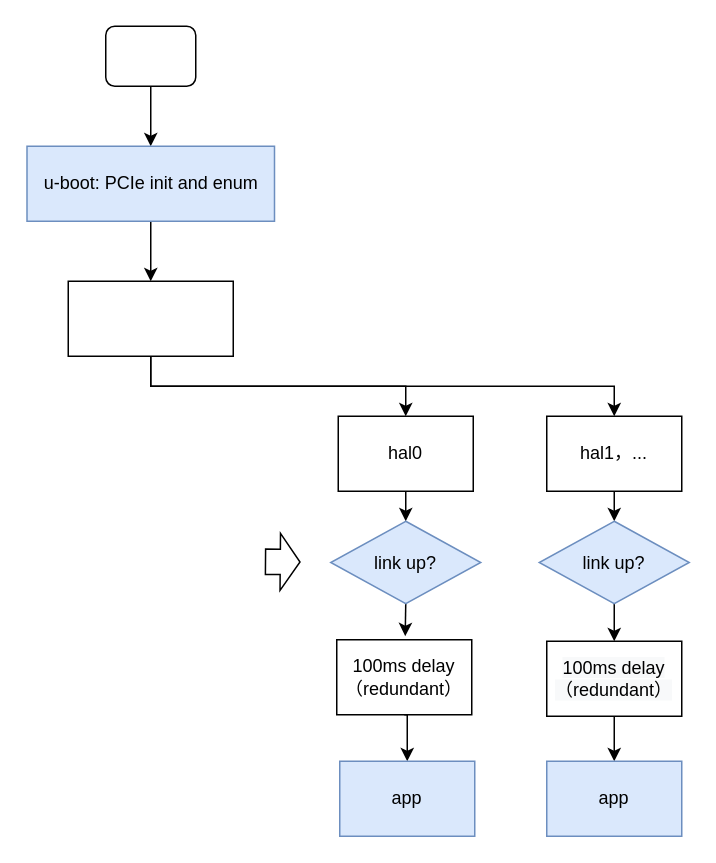
The diagram is 716 pixels wide and 863 high, and some of its shapes have lost their labels. The centre of each missing label's shape, as x and y in pixels:
Start: point (150, 55)
u-boot：load amp: point (150, 318)
